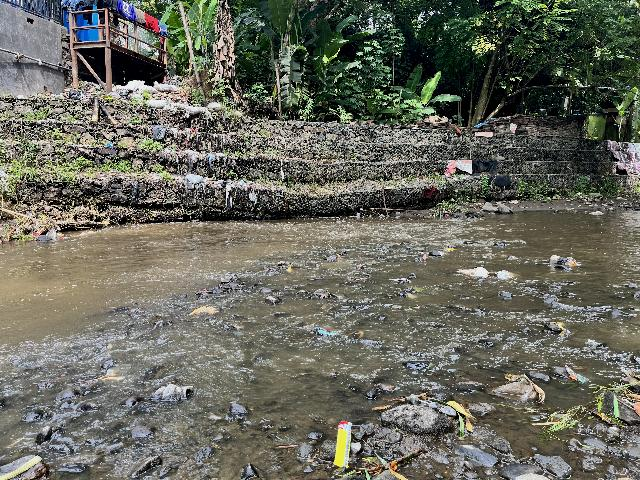Sampah Anorganik: (502, 372, 548, 411), (333, 417, 356, 473), (555, 363, 595, 387), (548, 251, 582, 272), (315, 322, 346, 339), (455, 267, 489, 280), (387, 277, 413, 285), (498, 269, 515, 281), (442, 247, 457, 254), (356, 264, 365, 269)
Sampah Organik: (357, 389, 478, 435), (362, 442, 426, 480), (602, 371, 640, 427), (531, 415, 596, 435), (0, 457, 47, 480), (74, 371, 124, 383), (185, 303, 221, 317), (384, 288, 422, 301), (549, 321, 574, 338), (271, 442, 301, 449), (194, 287, 211, 296), (350, 329, 363, 339), (319, 292, 333, 301), (335, 253, 344, 259), (287, 264, 293, 272), (423, 252, 427, 260)
